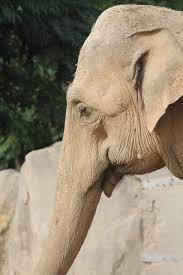elephant: (34, 4, 182, 274)
